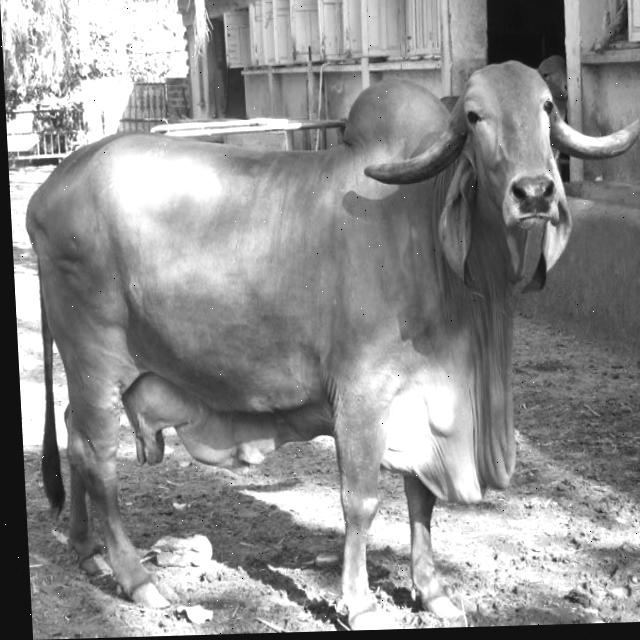Cow: (16, 52, 640, 638)
